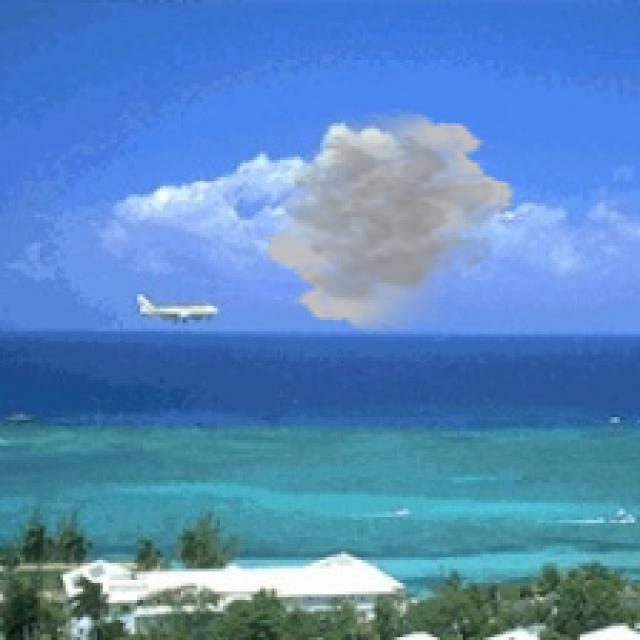Smoke: (262, 108, 518, 334)
